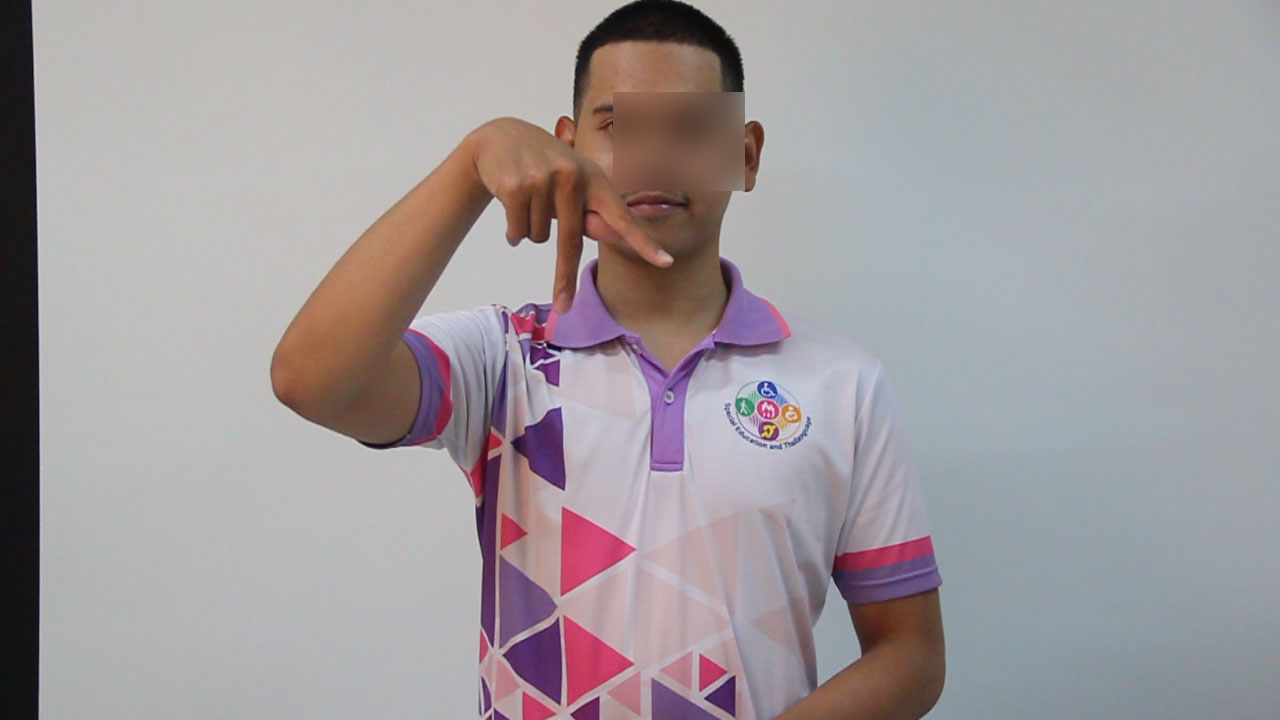por: (455, 86, 686, 326)
